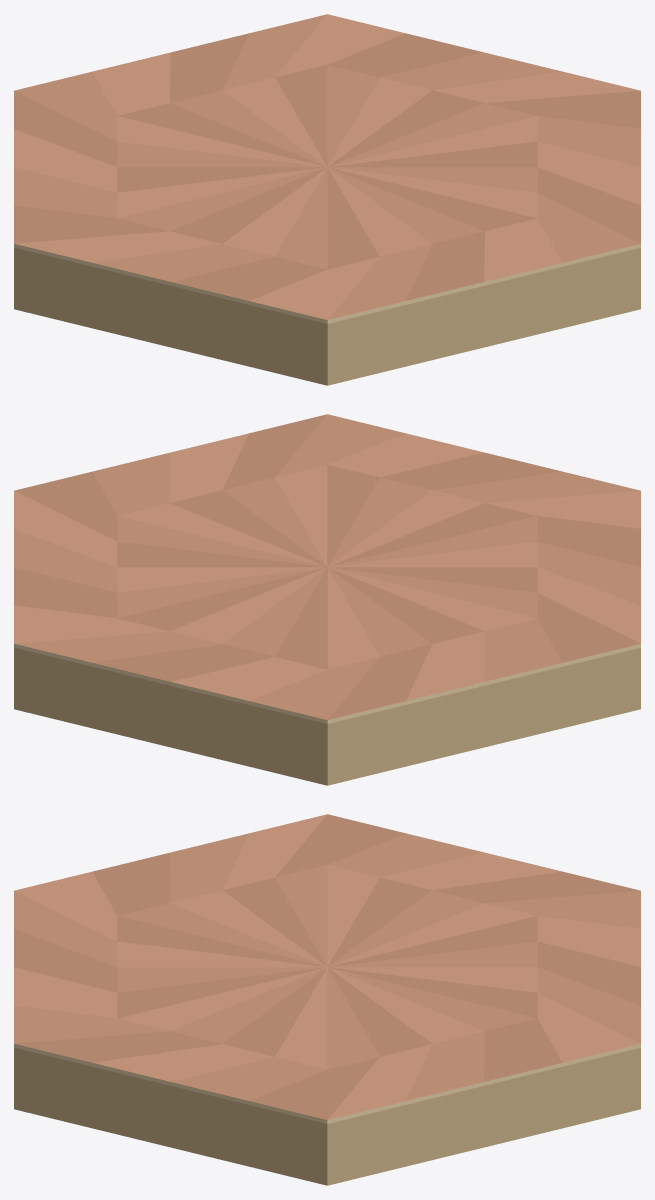
The model's file is terrain.glb.
3 renders of one model, top to bottom at view 1: azimuth 30°, elevation 25°; view 2: azimuth 150°, elevation 25°; view 3: azimuth 270°, elevation 25°, orthographic.
Parts seen in each view (by area): view 1: Tile_巴尔的马; view 2: Tile_巴尔的马; view 3: Tile_巴尔的马.
Part boxes in pixels (<box>): Tile_巴尔的马: <box>14,14,640,385</box>; Tile_巴尔的马: <box>14,414,640,785</box>; Tile_巴尔的马: <box>14,814,640,1185</box>.
Size of the model in its own units: 2 by 0.2 by 1.73.
